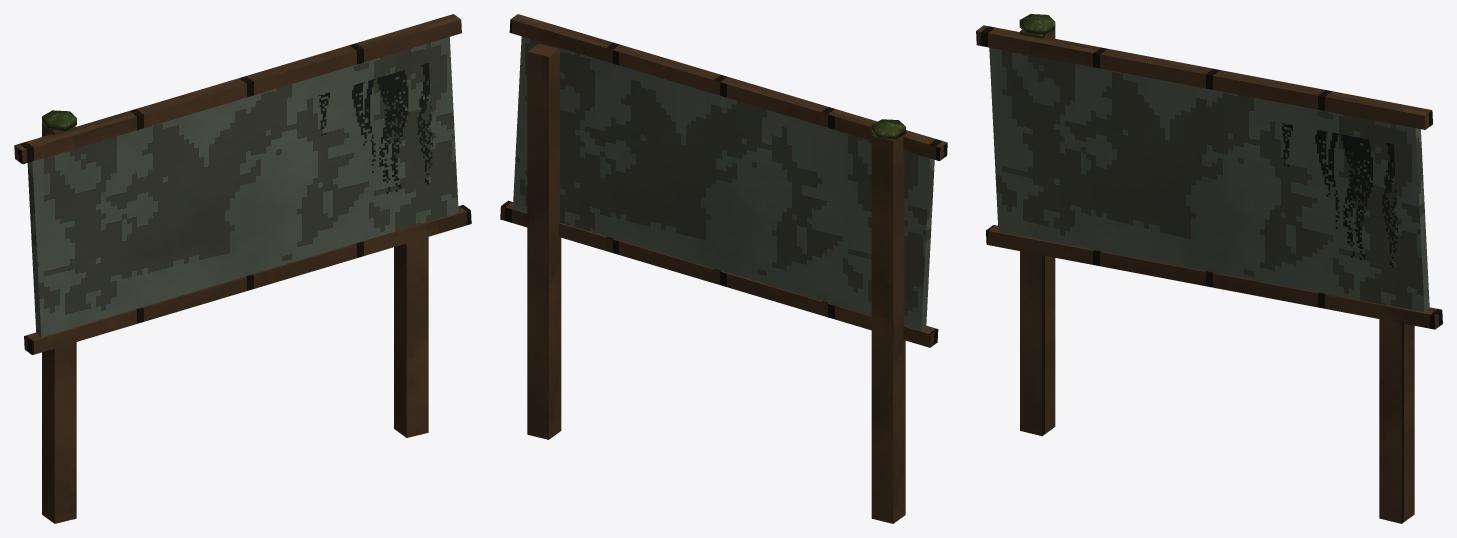
The model's file is park_sign.glb.
The picture shows the model from 3 angles, left to right: view 1: azimuth 30°, elevation 25°; view 2: azimuth 150°, elevation 25°; view 3: azimuth 330°, elevation 25°; orthographic projection. The views are drawn at different scales.
Visible parts, largest first — view 1: detail, posts-col; view 2: detail, posts-col; view 3: detail, posts-col.
Part boxes in pixels (x1,y1,x2,y2): detail: (14, 14, 471, 354); posts-col: (42, 123, 428, 523); detail: (500, 14, 947, 347); posts-col: (527, 43, 905, 523); detail: (976, 14, 1442, 329); posts-col: (1020, 29, 1414, 523).
Size of the model in its own units: 2.04 by 1.78 by 0.1588.
4 materials, 4 textured.
